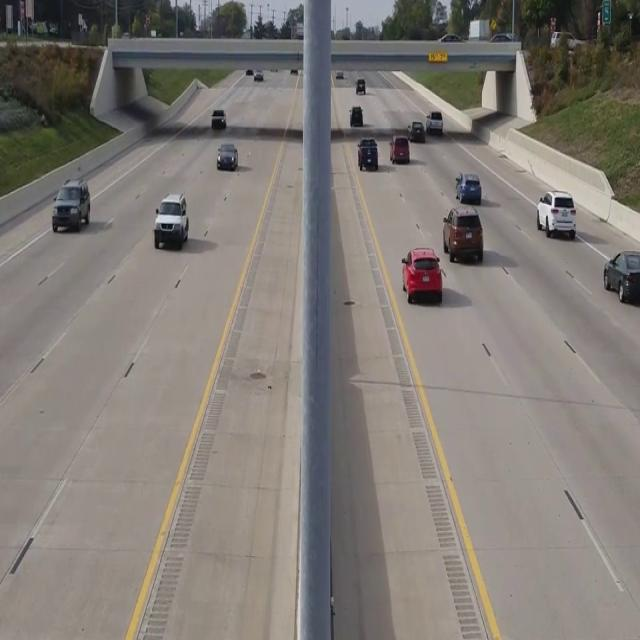car: (442, 206, 483, 263), (401, 248, 443, 302), (51, 178, 90, 232), (153, 192, 189, 249), (603, 250, 640, 305), (537, 190, 576, 240), (455, 172, 481, 204), (357, 138, 378, 170), (216, 142, 238, 171), (390, 134, 409, 162), (211, 109, 226, 128)
